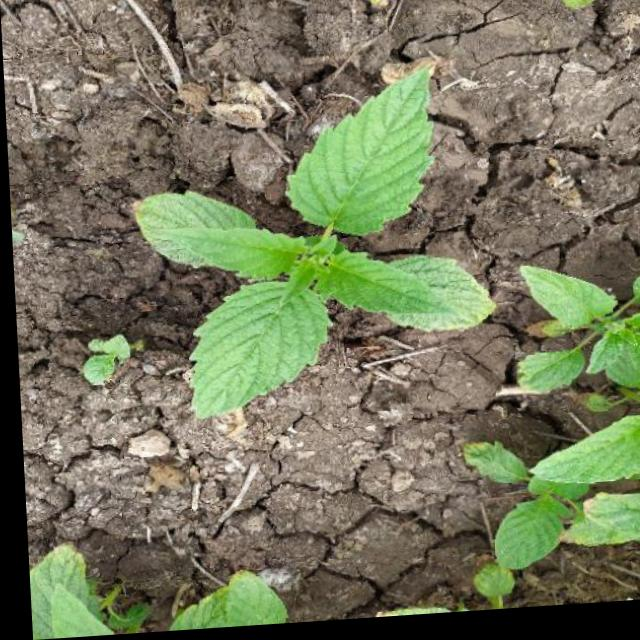crop: (129, 60, 511, 452), (450, 436, 640, 606), (515, 242, 640, 428)
